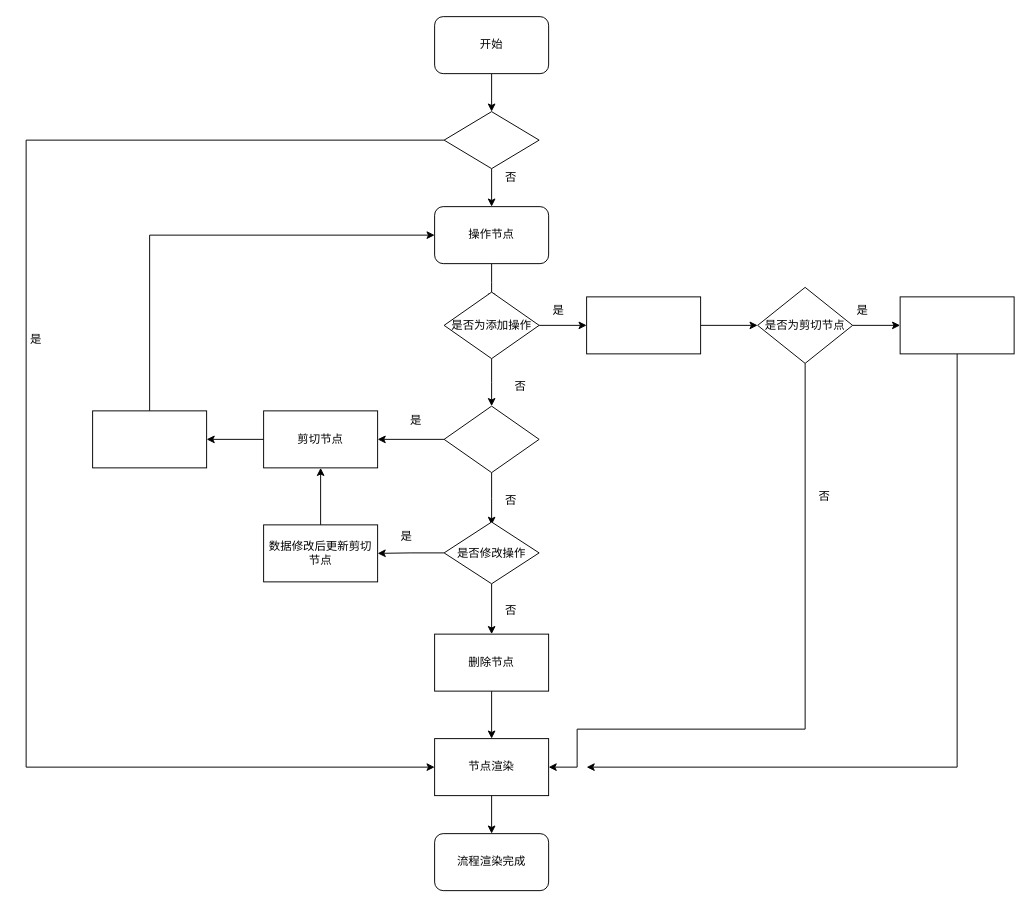
This 1031x907 diagram has some shape labels left out. Each missing label, with the centre of its shape:
"将该节点数据放置剪切面板" goes at (x=149, y=439).
"是否为剪切操作" goes at (x=491, y=439).
"是否流程初始化" goes at (x=491, y=140).
"添加新节点" goes at (x=643, y=325).
"清除本身/上下游的数据引用" goes at (x=956, y=325).
